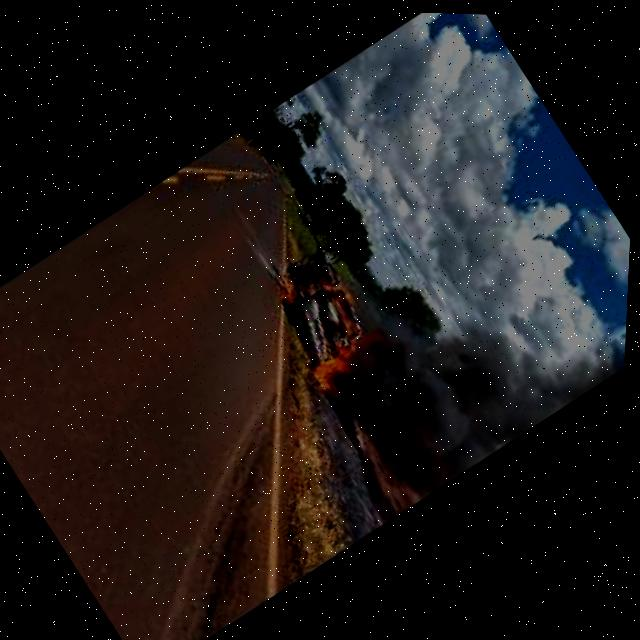Fire: (276, 251, 360, 331), (308, 332, 379, 398)
Smoke: (319, 257, 573, 506)
